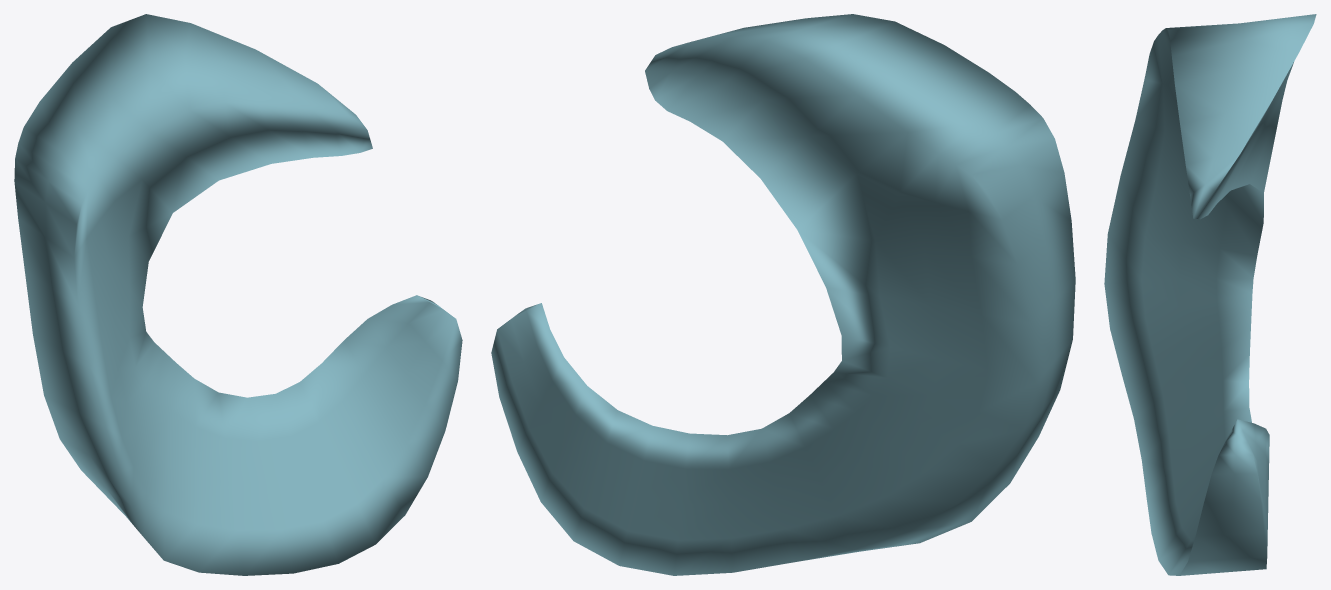
3 renders of one model, left to right at view 1: azimuth 30°, elevation 25°; view 2: azimuth 150°, elevation 25°; view 3: azimuth 270°, elevation 25°, orthographic. The views are drawn at different scales.
Parts seen in each view (by area): view 1: 右侧外侧半月板; view 2: 右侧外侧半月板; view 3: 右侧外侧半月板.
Boxes of the visible parts, box(x1,y1,x2,y2) form: 右侧外侧半月板: box(14, 14, 462, 575); 右侧外侧半月板: box(491, 14, 1075, 575); 右侧外侧半月板: box(1104, 14, 1316, 575).
Size of the model in its own units: 0.0498 by 0.0571 by 0.0226.
